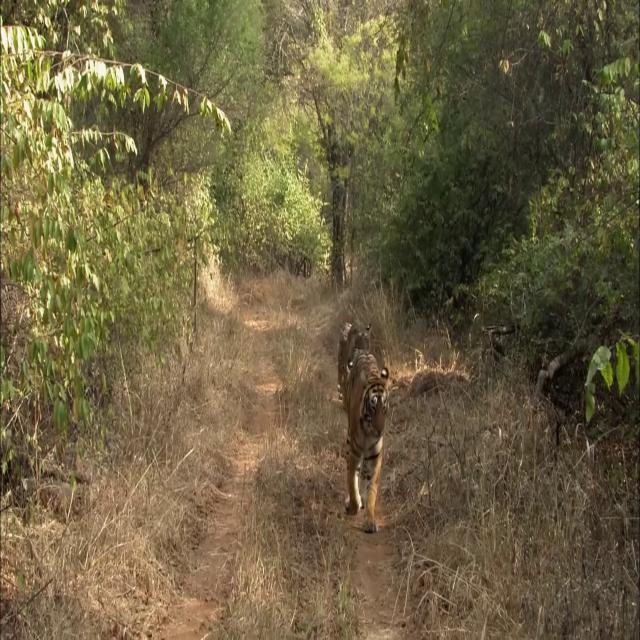tiger: (345, 352, 390, 534)
